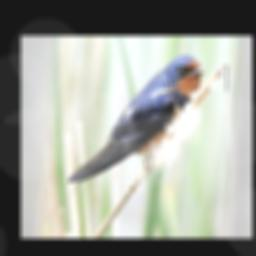Swallow: (67, 53, 206, 183)
